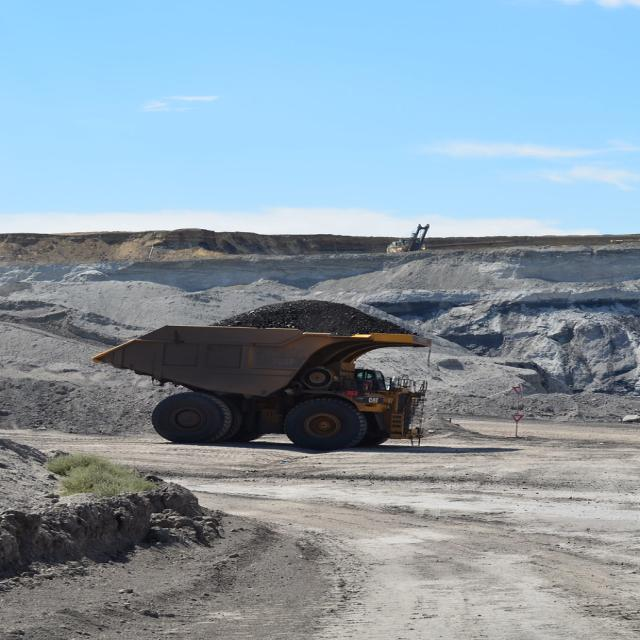dump_truck: (104, 296, 449, 456)
